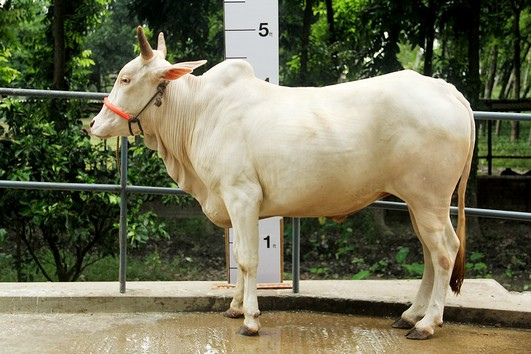cow: (83, 32, 468, 336)
